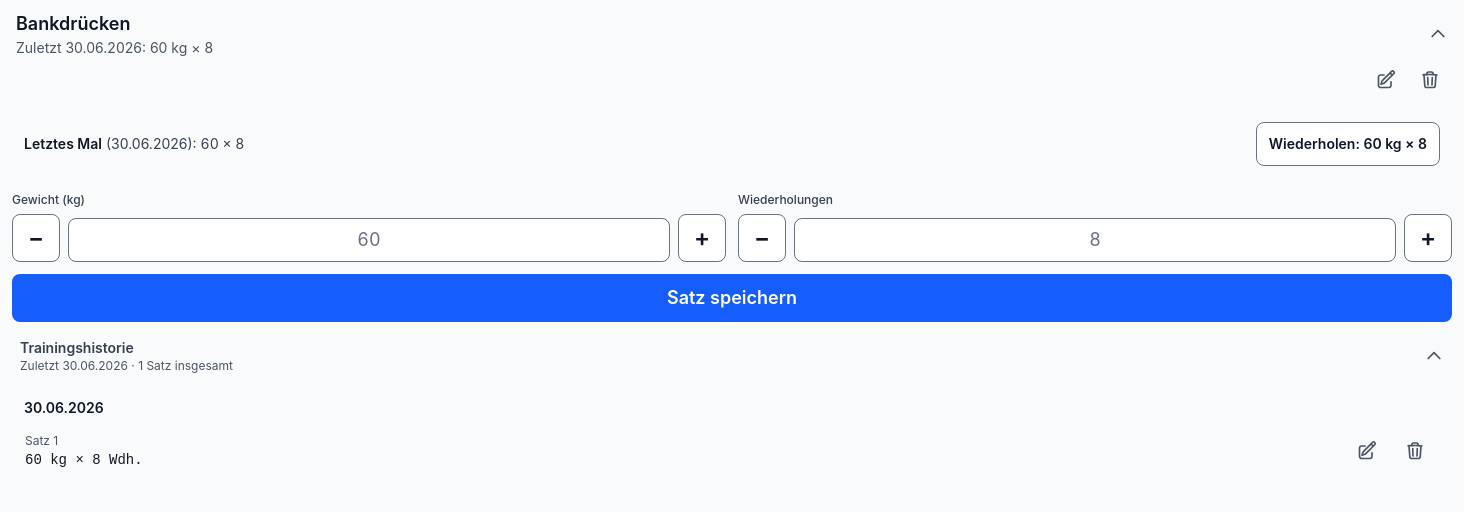
Test: ExerciseCard › marks only the invalid field and links its message
The image size is (1464, 512).
Type "42,5" into the field with id "weight-exercise-1".
click(369, 240); type("42,5")  # box [68,218,670,262]
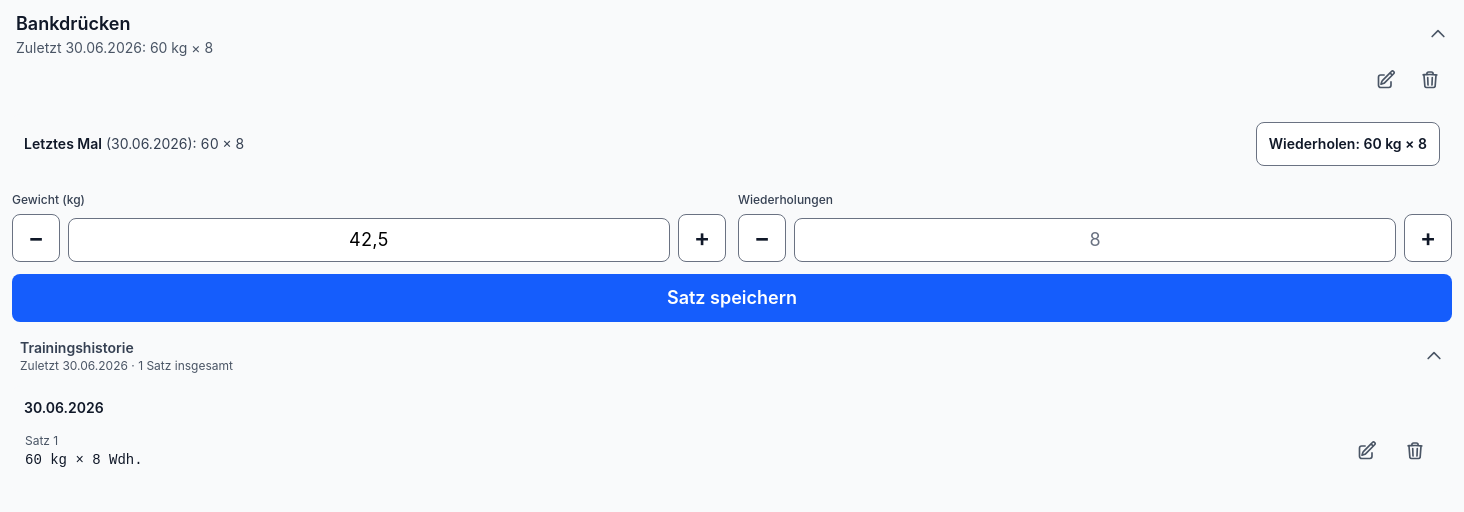
Type "8,5" into the field with id "reps-exercise-1".
click(1095, 240); type("8,5")  # box [794,218,1396,262]
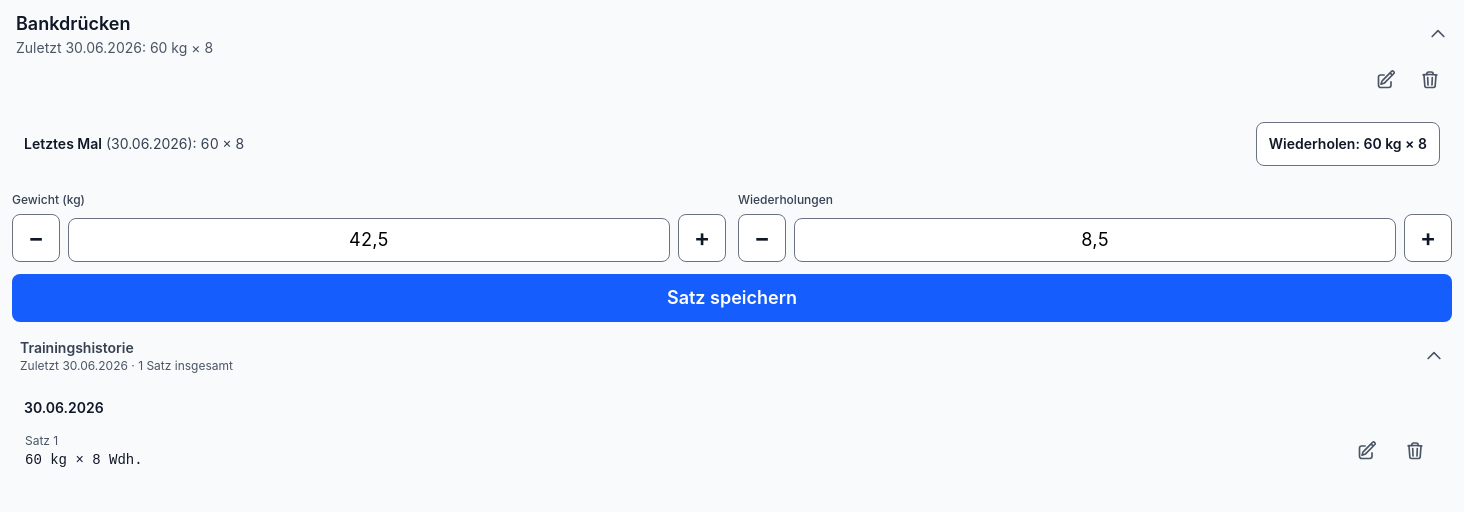
Submit the form, box [12,186,1452,322]
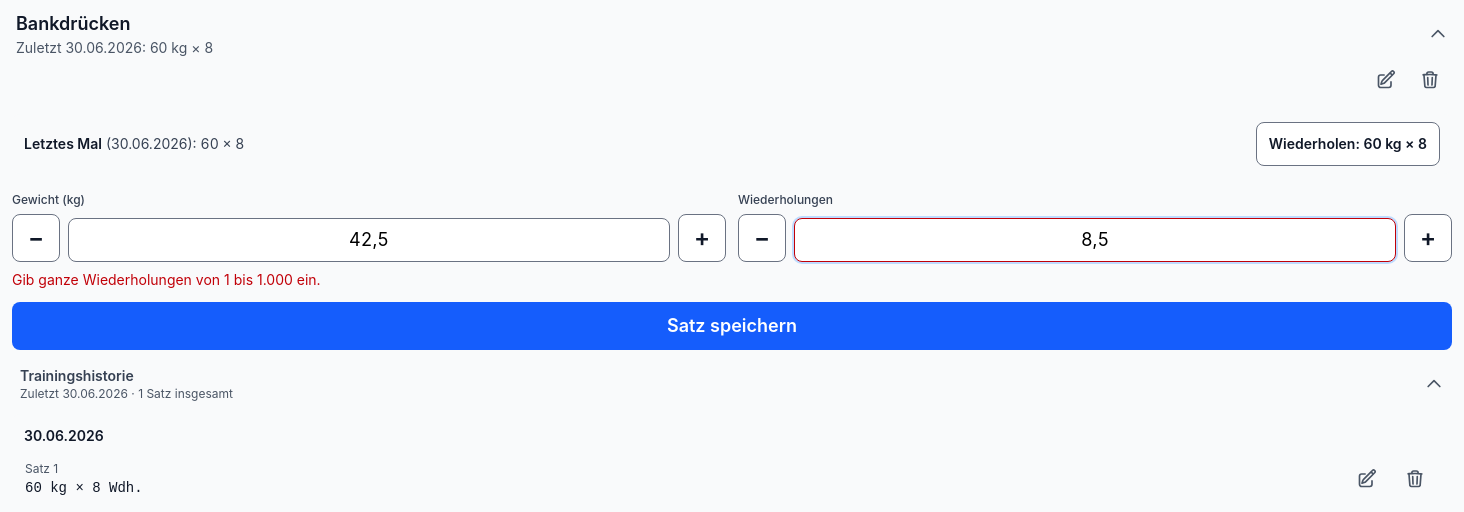
Check: the text with id "reps-error-exercise-1" shows "ganze Wiederholungen", box [12,271,321,288]
